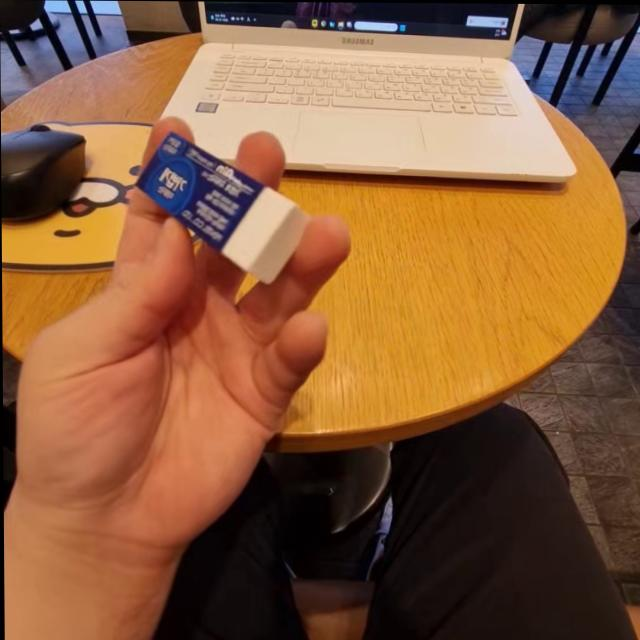grab_eraser: (12, 107, 347, 569)
mouse: (1, 109, 93, 244)
